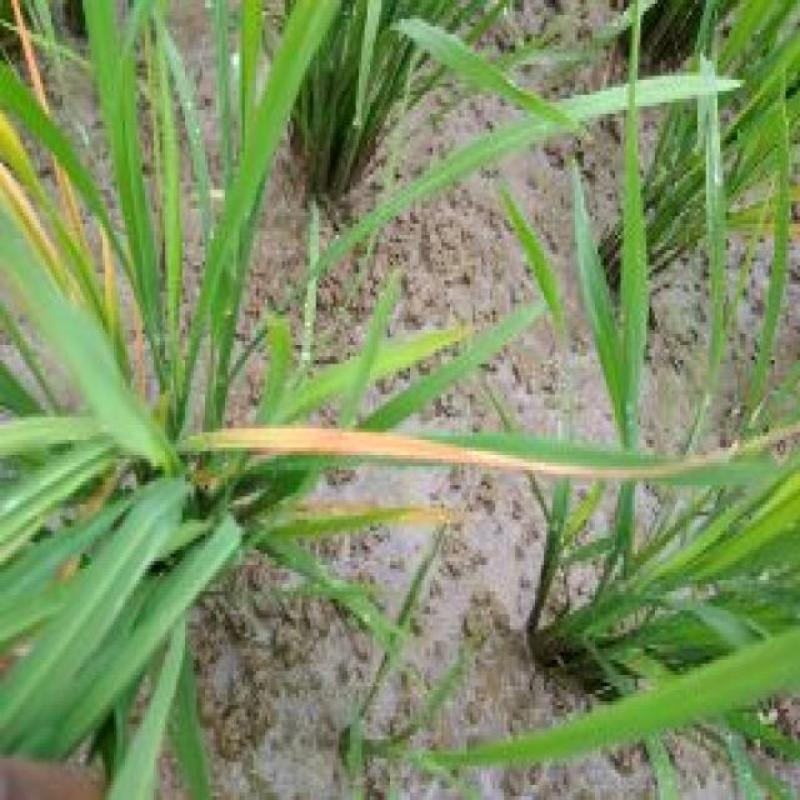Rice Tungro: (206, 414, 675, 490)
